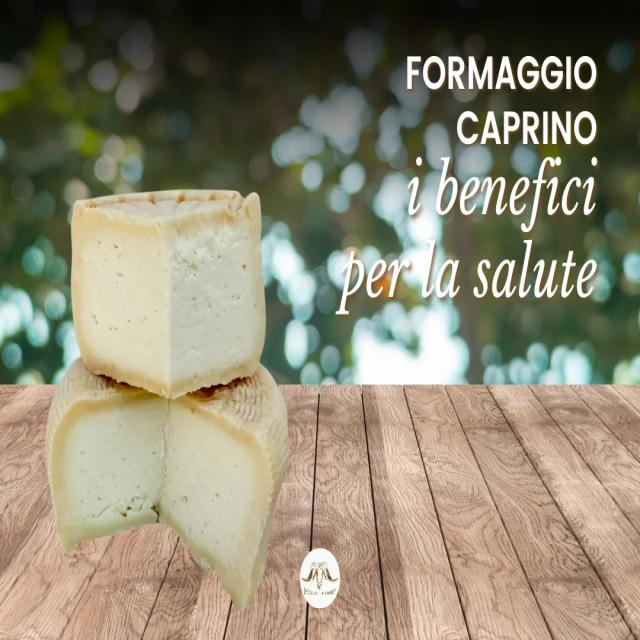Cheese: (37, 324, 291, 617), (63, 185, 271, 394)
